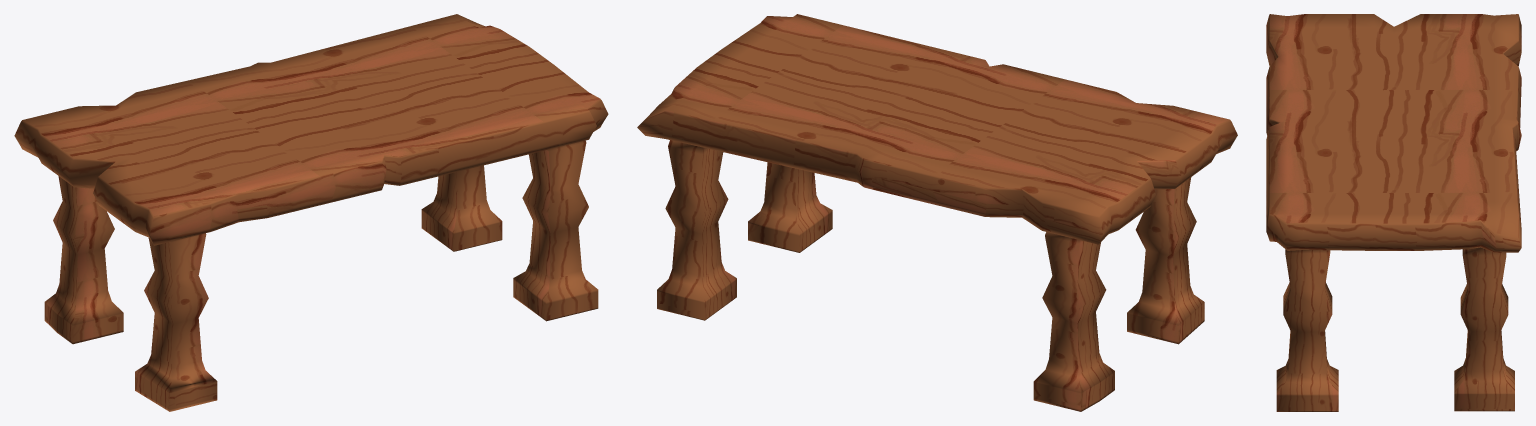
File: Stół.fbx
The picture shows the model from 3 angles, left to right: view 1: azimuth 30°, elevation 25°; view 2: azimuth 150°, elevation 25°; view 3: azimuth 270°, elevation 25°; orthographic projection. The views are drawn at different scales.
Parts seen in each view (by area): view 1: Stół; view 2: Stół; view 3: Stół.
Part boxes in pixels (x1,y1,x2,y2): Stół: [14, 14, 608, 411]; Stół: [637, 14, 1237, 411]; Stół: [1266, 14, 1521, 411].
Bounding box in the file's own units: 417 × 173 × 209.
